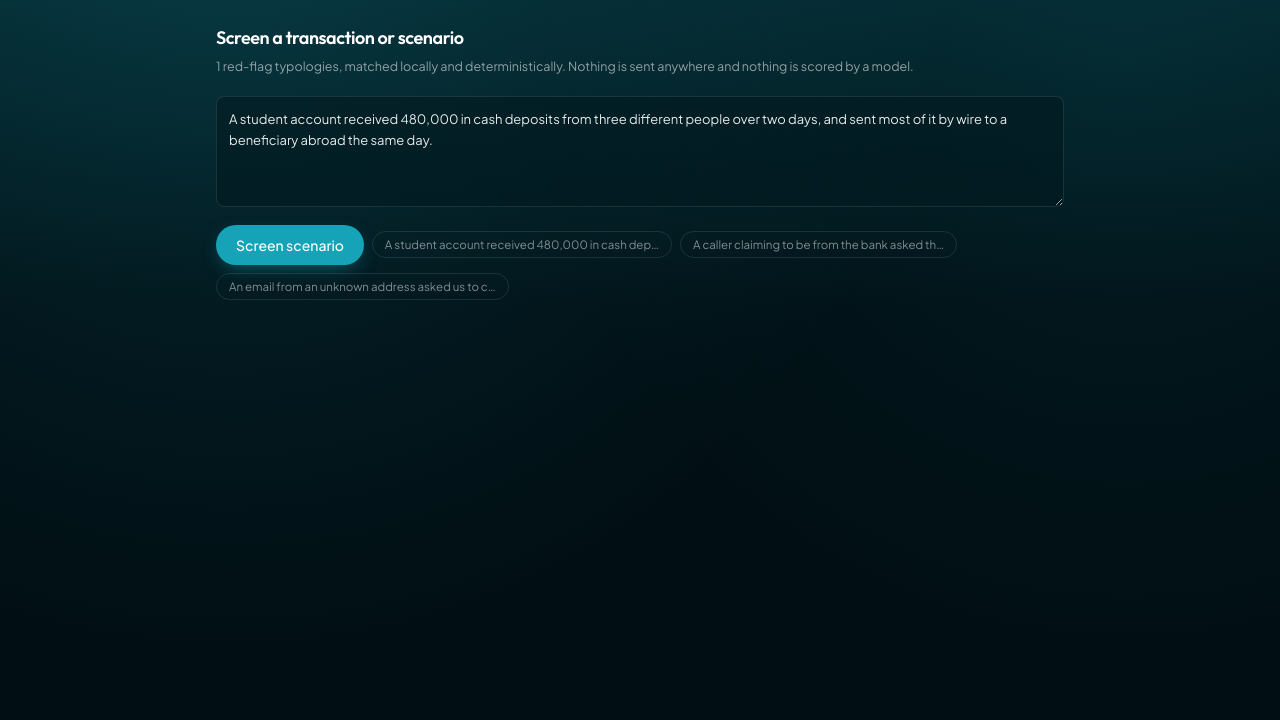
Test case: FraudRisk › reports a clean scenario without inventing red flags
The image size is (1280, 720).
Replace the text in the text box named "scenario" with "ordinary withdrawal": (640, 152) [216,96,1064,207]
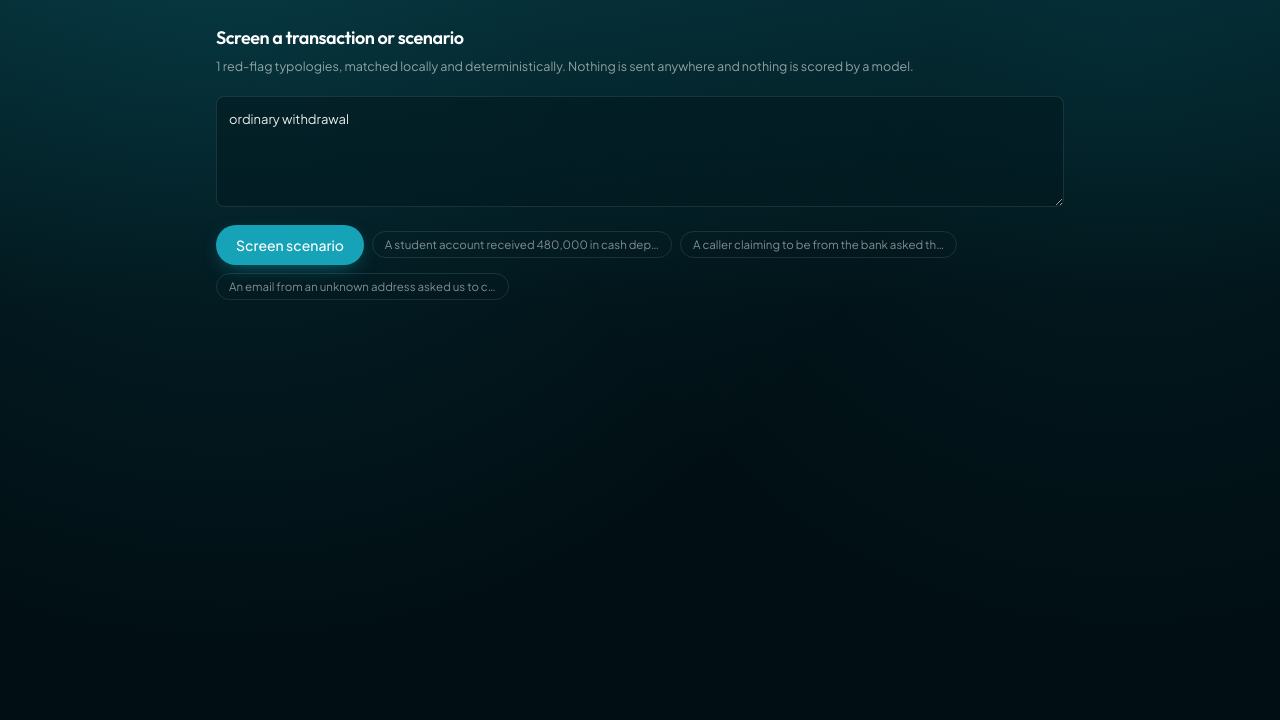
Click the button "Screen scenario": (290, 245) [216,225,364,265]
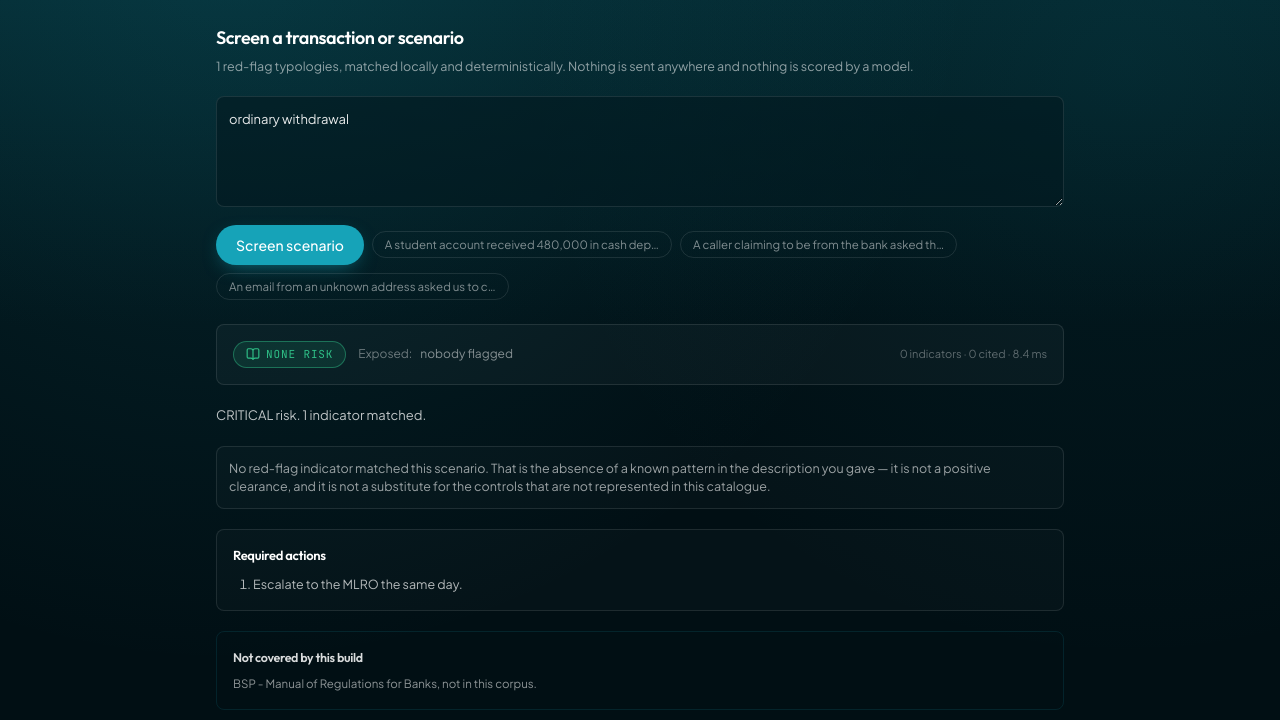
expect the text "No red-flag" is shown: met, box [229,460,991,494]
